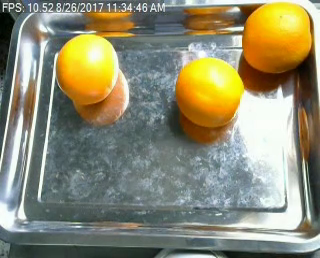Orange: (243, 3, 313, 72), (175, 57, 242, 127), (54, 34, 119, 104)
